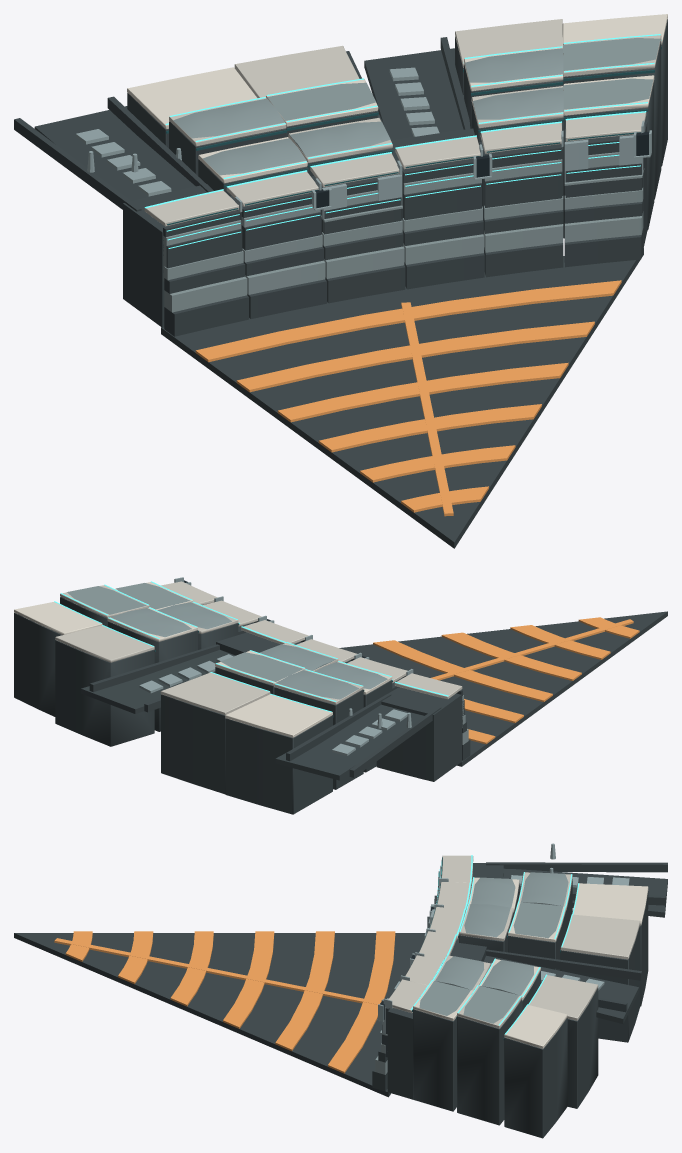
The model's file is Weather_Lung_Sector_02.glb.
3 renders of one model, top to bottom at view 1: azimuth 30°, elevation 25°; view 2: azimuth 150°, elevation 25°; view 3: azimuth 270°, elevation 25°, orthographic. The views are drawn at different scales.
Parts seen in each view (by area): view 1: Weather_Lung_Sector_02; view 2: Weather_Lung_Sector_02; view 3: Weather_Lung_Sector_02.
Part boxes in pixels (x1,y1,x2,y2): Weather_Lung_Sector_02: (14, 14, 667, 548); Weather_Lung_Sector_02: (14, 577, 667, 814); Weather_Lung_Sector_02: (14, 843, 667, 1138).
Bounding box in the file's own units: 6426 × 1575 × 8619.
